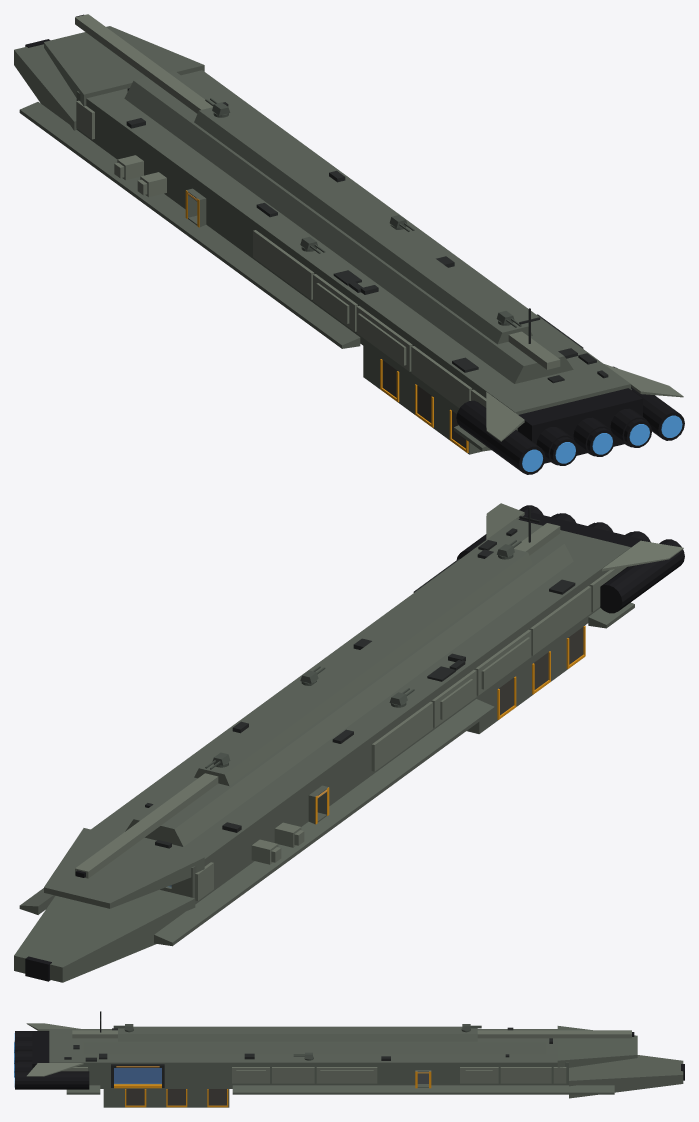
The model's file is ship_SMALL_DROP_FRIGATE.obj.
The picture shows the model from 3 angles, top to bottom: view 1: azimuth 30°, elevation 25°; view 2: azimuth 150°, elevation 25°; view 3: azimuth 270°, elevation 25°; orthographic projection. The views are drawn at different scales.
Parts seen in each view (by area): view 1: SMALL_DROP_FRIGATE_Hull-col, SMALL_DROP_FRIGATE_Armor, SMALL_DROP_FRIGATE_Engines, SMALL_DROP_FRIGATE_Details, SMALL_DROP_FRIGATE_EngineGlow, SMALL_DROP_FRIGATE_Hazard; view 2: SMALL_DROP_FRIGATE_Hull-col, SMALL_DROP_FRIGATE_Armor, SMALL_DROP_FRIGATE_Engines, SMALL_DROP_FRIGATE_Details, SMALL_DROP_FRIGATE_Hazard; view 3: SMALL_DROP_FRIGATE_Hull-col, SMALL_DROP_FRIGATE_Armor, SMALL_DROP_FRIGATE_Engines, SMALL_DROP_FRIGATE_CargoBayDoor-col, SMALL_DROP_FRIGATE_CargoBayShield, SMALL_DROP_FRIGATE_Hazard, SMALL_DROP_FRIGATE_Details, SMALL_DROP_FRIGATE_Trim, SMALL_DROP_FRIGATE_PodTube_Starboard_1_Hatch-col, SMALL_DROP_FRIGATE_PodTube_Starboard_2_Hatch-col, SMALL_DROP_FRIGATE_PodTube_Starboard_3_Hatch-col.
Boxes of the visible parts, x1,y1,x2,y2 form: SMALL_DROP_FRIGATE_Hull-col: (14,26,630,454); SMALL_DROP_FRIGATE_Armor: (75,14,683,441); SMALL_DROP_FRIGATE_Engines: (25,14,684,474); SMALL_DROP_FRIGATE_Details: (126,88,608,383); SMALL_DROP_FRIGATE_EngineGlow: (522,415,682,471); SMALL_DROP_FRIGATE_Hazard: (185,190,468,452); SMALL_DROP_FRIGATE_Hull-col: (14,519,634,982); SMALL_DROP_FRIGATE_Armor: (75,503,683,900); SMALL_DROP_FRIGATE_Engines: (25,505,684,981); SMALL_DROP_FRIGATE_Details: (145,506,575,848); SMALL_DROP_FRIGATE_Hazard: (315,626,585,824); SMALL_DROP_FRIGATE_Hull-col: (49,1026,683,1107); SMALL_DROP_FRIGATE_Armor: (26,1023,631,1083); SMALL_DROP_FRIGATE_Engines: (14,1031,684,1089); SMALL_DROP_FRIGATE_CargoBayDoor-col: (114,1068,161,1083); SMALL_DROP_FRIGATE_CargoBayShield: (114,1068,161,1083); SMALL_DROP_FRIGATE_Hazard: (114,1071,431,1107); SMALL_DROP_FRIGATE_Details: (64,1011,552,1061); SMALL_DROP_FRIGATE_Trim: (111,1064,164,1087); SMALL_DROP_FRIGATE_PodTube_Starboard_1_Hatch-col: (126,1089,144,1105); SMALL_DROP_FRIGATE_PodTube_Starboard_2_Hatch-col: (167,1089,185,1105); SMALL_DROP_FRIGATE_PodTube_Starboard_3_Hatch-col: (208,1089,226,1105).
Bounding box in the file's own units: 21.9 × 15.3 × 118.
